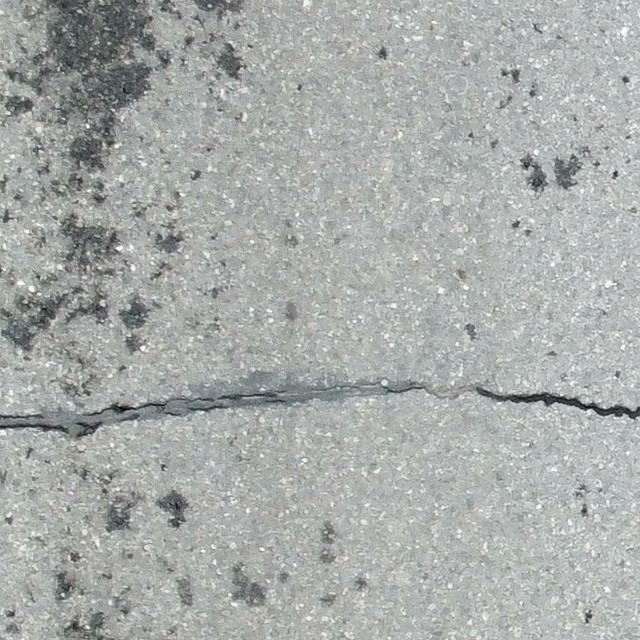TransverseCrack: (1, 378, 640, 436)
